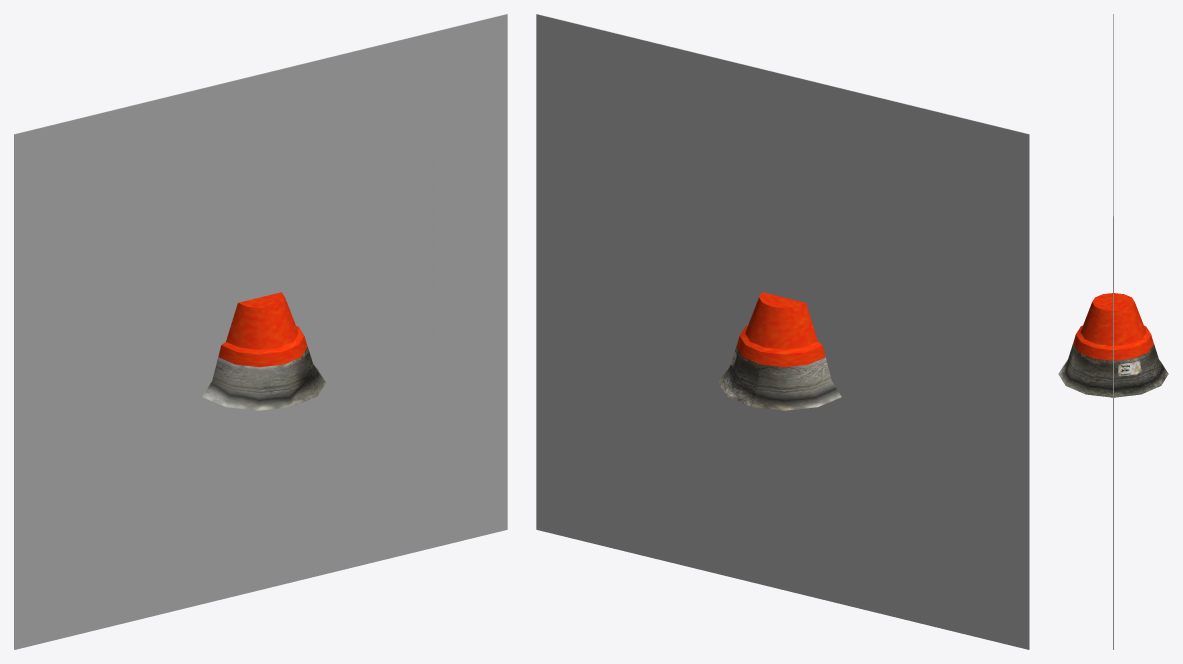
File: lights_emergencylight_small.dae
3 renders of one model, left to right at view 1: azimuth 30°, elevation 25°; view 2: azimuth 150°, elevation 25°; view 3: azimuth 270°, elevation 25°, orthographic. The views are drawn at different scales.
Parts seen in each view (by area): view 1: _bb_halo_emergencylight_halo01, polySurface2, polySurface1; view 2: _bb_halo_emergencylight_halo01, polySurface2, polySurface1; view 3: polySurface1, polySurface2, _bb_halo_emergencylight_halo01.
Part boxes in pixels (x1=…): _bb_halo_emergencylight_halo01: x1=14, y1=14, x2=507, y2=649; polySurface2: x1=202, y1=347, x2=325, y2=410; polySurface1: x1=218, y1=292, x2=307, y2=367; _bb_halo_emergencylight_halo01: x1=536, y1=14, x2=1029, y2=649; polySurface2: x1=718, y1=347, x2=841, y2=410; polySurface1: x1=736, y1=292, x2=825, y2=367; polySurface1: x1=1073, y1=293, x2=1153, y2=360; polySurface2: x1=1058, y1=344, x2=1168, y2=397; _bb_halo_emergencylight_halo01: x1=1113, y1=14, x2=1113, y2=649.
Size of the model in its own units: 0.65 by 0.65 by 0.1499.
